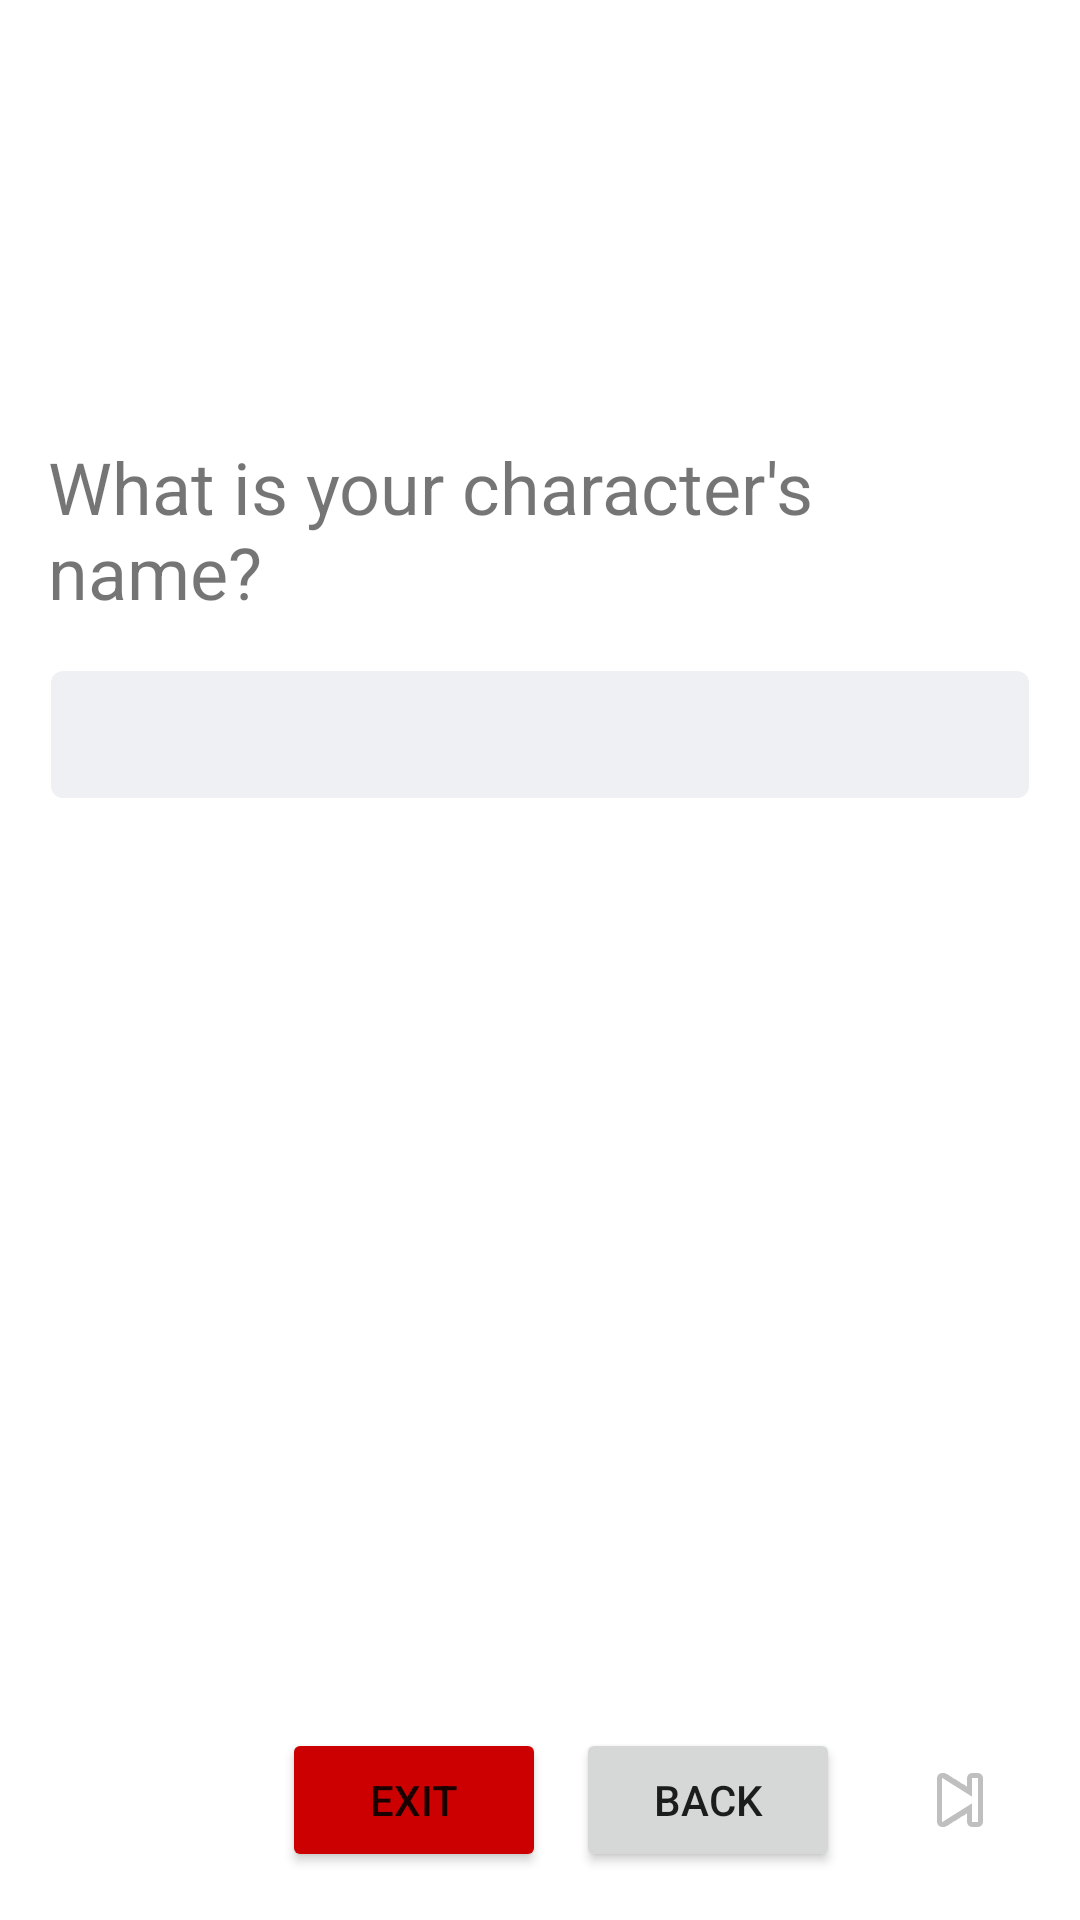

Screen size 1080px x 1920px. Icon name, then its center in pixels as [x,y]:
Next: [960,1800]
